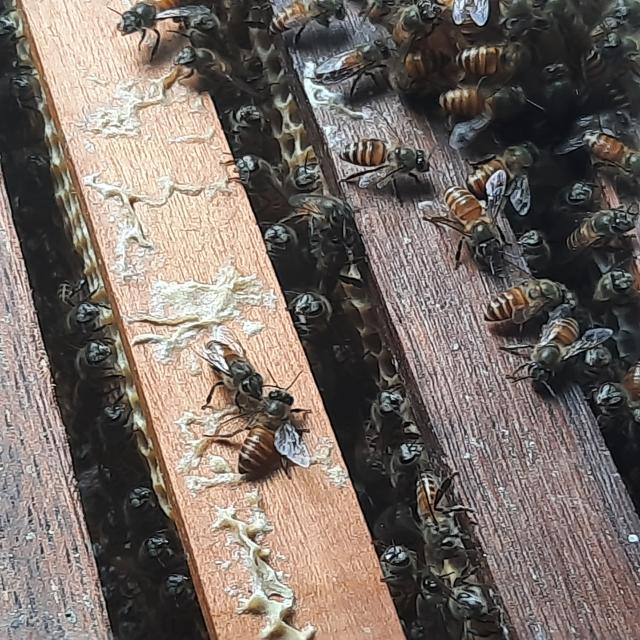honeybee: (188, 319, 272, 428), (427, 180, 510, 280), (100, 0, 195, 65), (409, 473, 478, 561), (235, 383, 298, 479), (470, 136, 543, 218), (436, 70, 521, 140), (174, 44, 261, 106), (336, 134, 434, 189), (488, 271, 570, 336), (521, 299, 574, 396), (312, 36, 395, 94), (559, 120, 640, 178), (540, 51, 586, 153), (370, 526, 423, 612), (560, 198, 640, 254), (286, 186, 358, 241), (448, 581, 515, 640), (270, 0, 347, 50), (575, 45, 626, 120), (285, 287, 334, 363), (390, 40, 455, 94), (230, 149, 282, 216), (590, 254, 640, 321), (154, 568, 202, 636), (390, 430, 435, 501), (453, 40, 532, 80), (364, 378, 406, 444), (590, 370, 628, 442), (542, 175, 592, 226), (68, 333, 115, 387), (62, 280, 102, 342), (574, 320, 614, 382), (391, 0, 439, 51), (0, 61, 45, 115), (126, 528, 177, 574), (512, 220, 554, 274), (9, 140, 53, 190), (444, 0, 498, 37), (118, 484, 168, 523), (180, 0, 224, 44), (266, 219, 302, 271), (420, 567, 442, 640), (0, 6, 28, 52)
